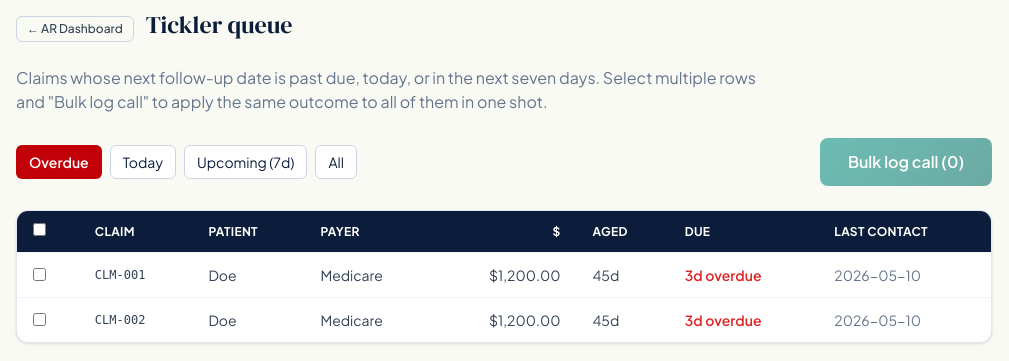
Test: ArTicklerPage › select-all checkbox toggles all rows
Check: the text "CLM-001" is shown, box [79,252,192,298]
Step 1. Click the checkbox named "Select all rows" → click(40, 230), box [33,223,46,236]
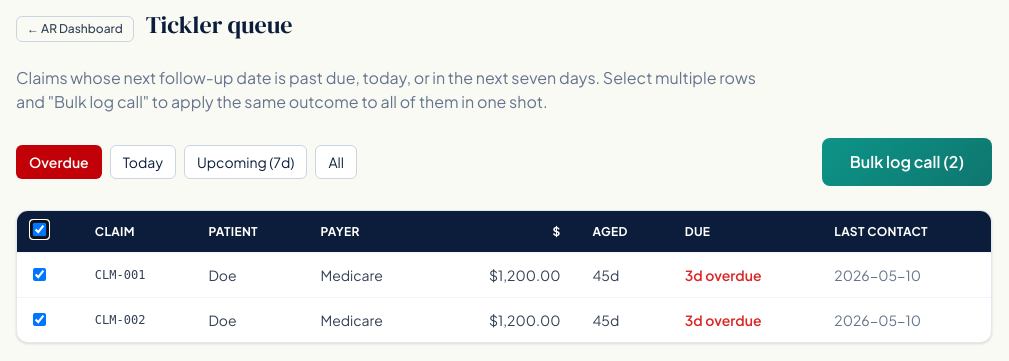
Check: the button "Bulk log call (2)" is enabled, box [822,138,992,186]
Step 2. Click the checkbox named "Select all rows" → click(40, 230), box [33,223,46,236]
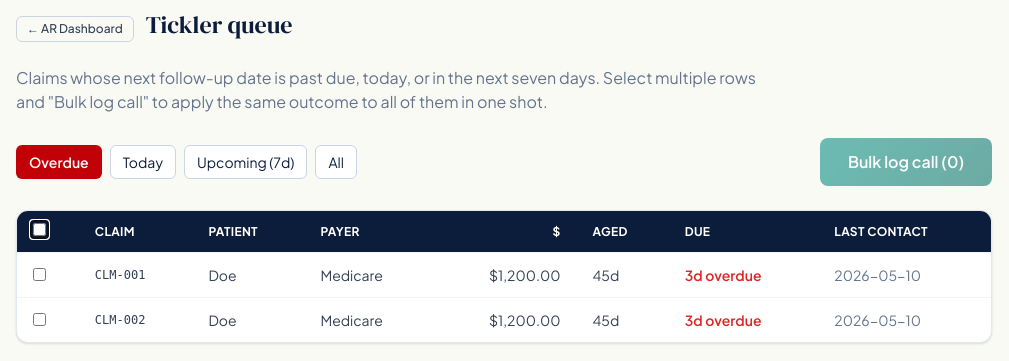
Check: the button "Bulk log call (0)" is disabled, box [820,138,992,186]
